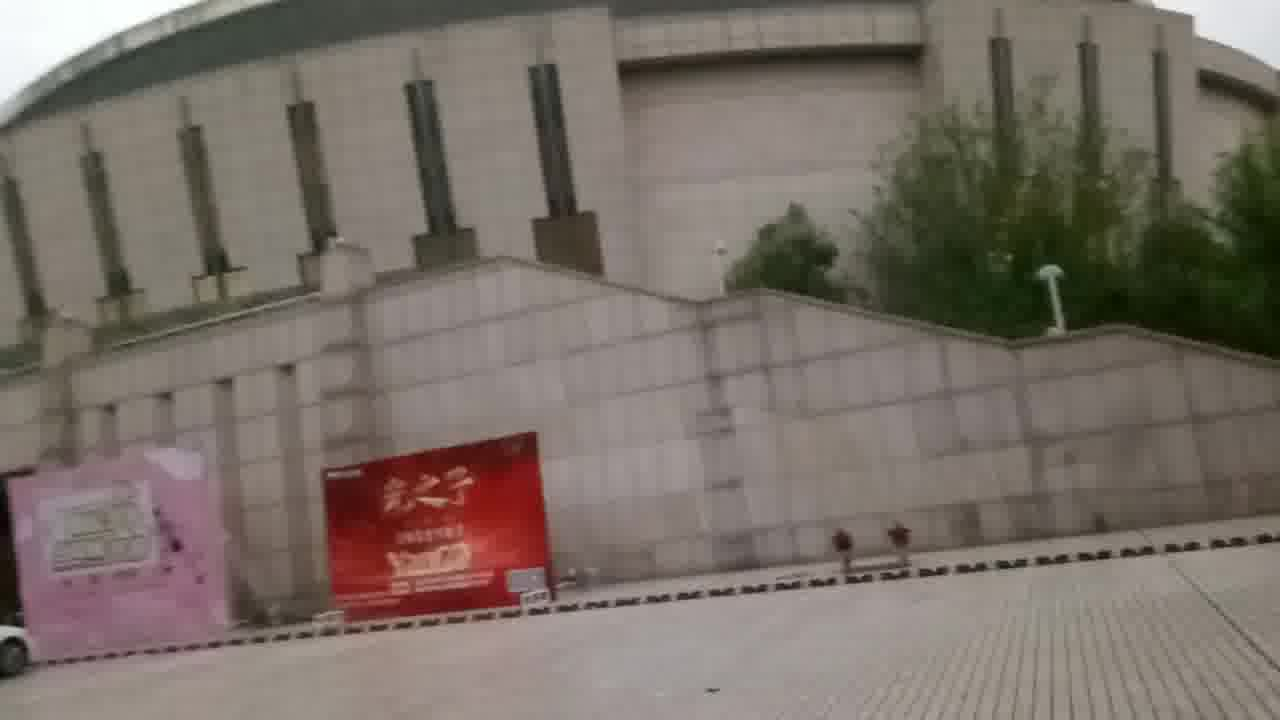zhongtiww: (12, 4, 1280, 601)
